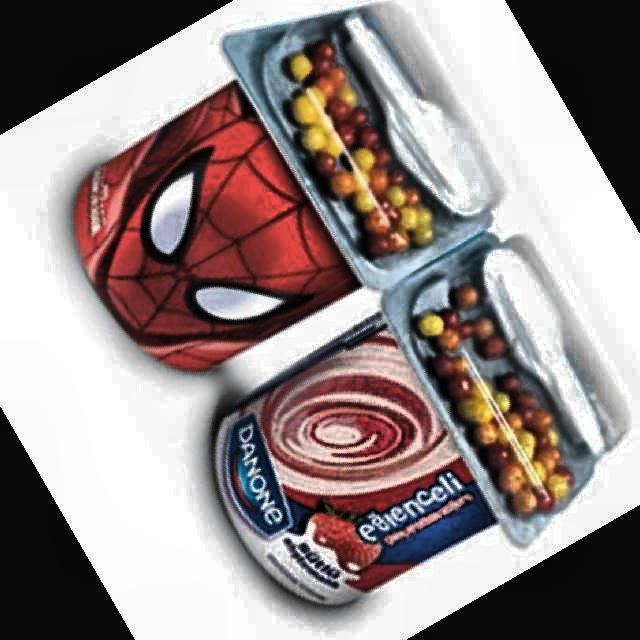plastic: (74, 8, 618, 604)
